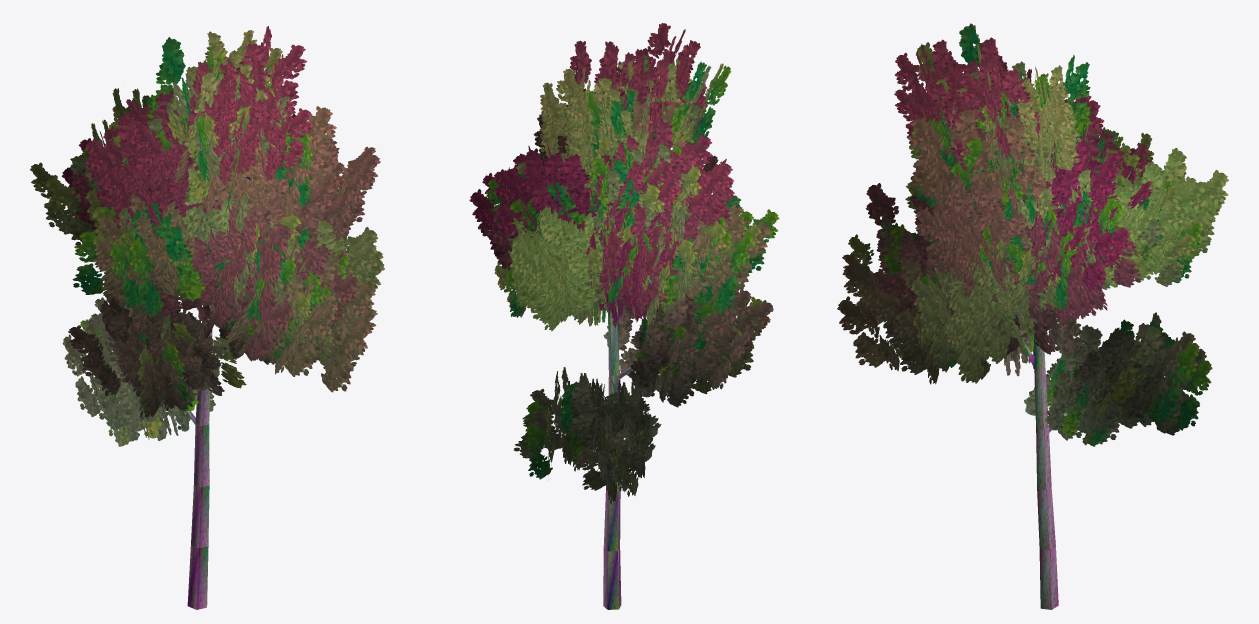
Rendered from nat_birch_a_LOD1.glb.
3 renders of one model, left to right at view 1: azimuth 30°, elevation 25°; view 2: azimuth 150°, elevation 25°; view 3: azimuth 270°, elevation 25°, orthographic. The views are drawn at different scales.
Visible parts, largest first — view 1: nat_birch_a_LOD1; view 2: nat_birch_a_LOD1; view 3: nat_birch_a_LOD1.
Part boxes in pixels (box(x1,y1,x2,y2)): nat_birch_a_LOD1: box(30, 26, 384, 609); nat_birch_a_LOD1: box(469, 23, 779, 609); nat_birch_a_LOD1: box(837, 23, 1228, 609).
Bounding box in the file's own units: 5.17 × 9.02 × 6.08.
Materials: 2 (2 with a texture image).
